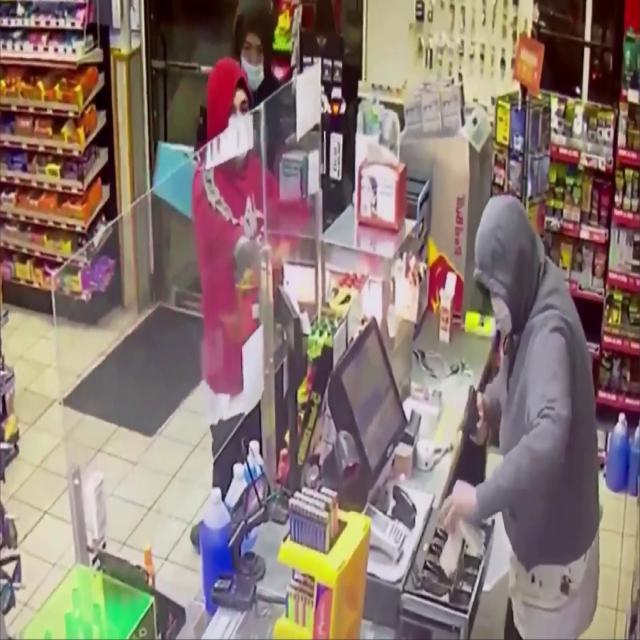weapon: (459, 384, 482, 441)
